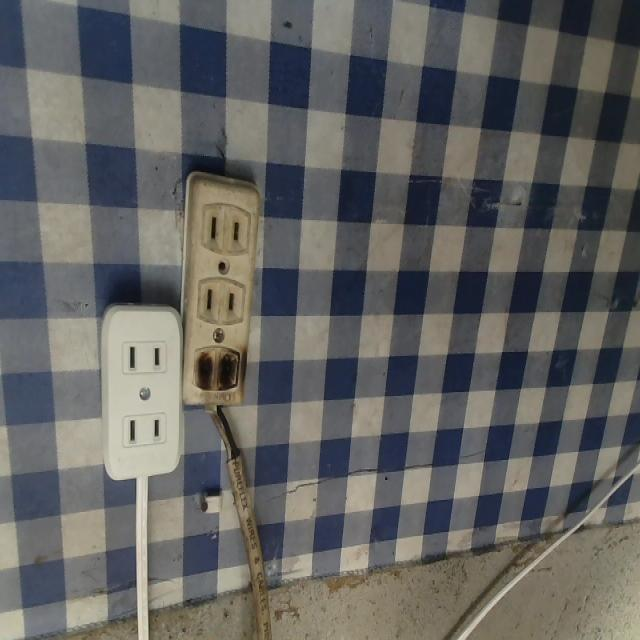-: (180, 341, 252, 399)
